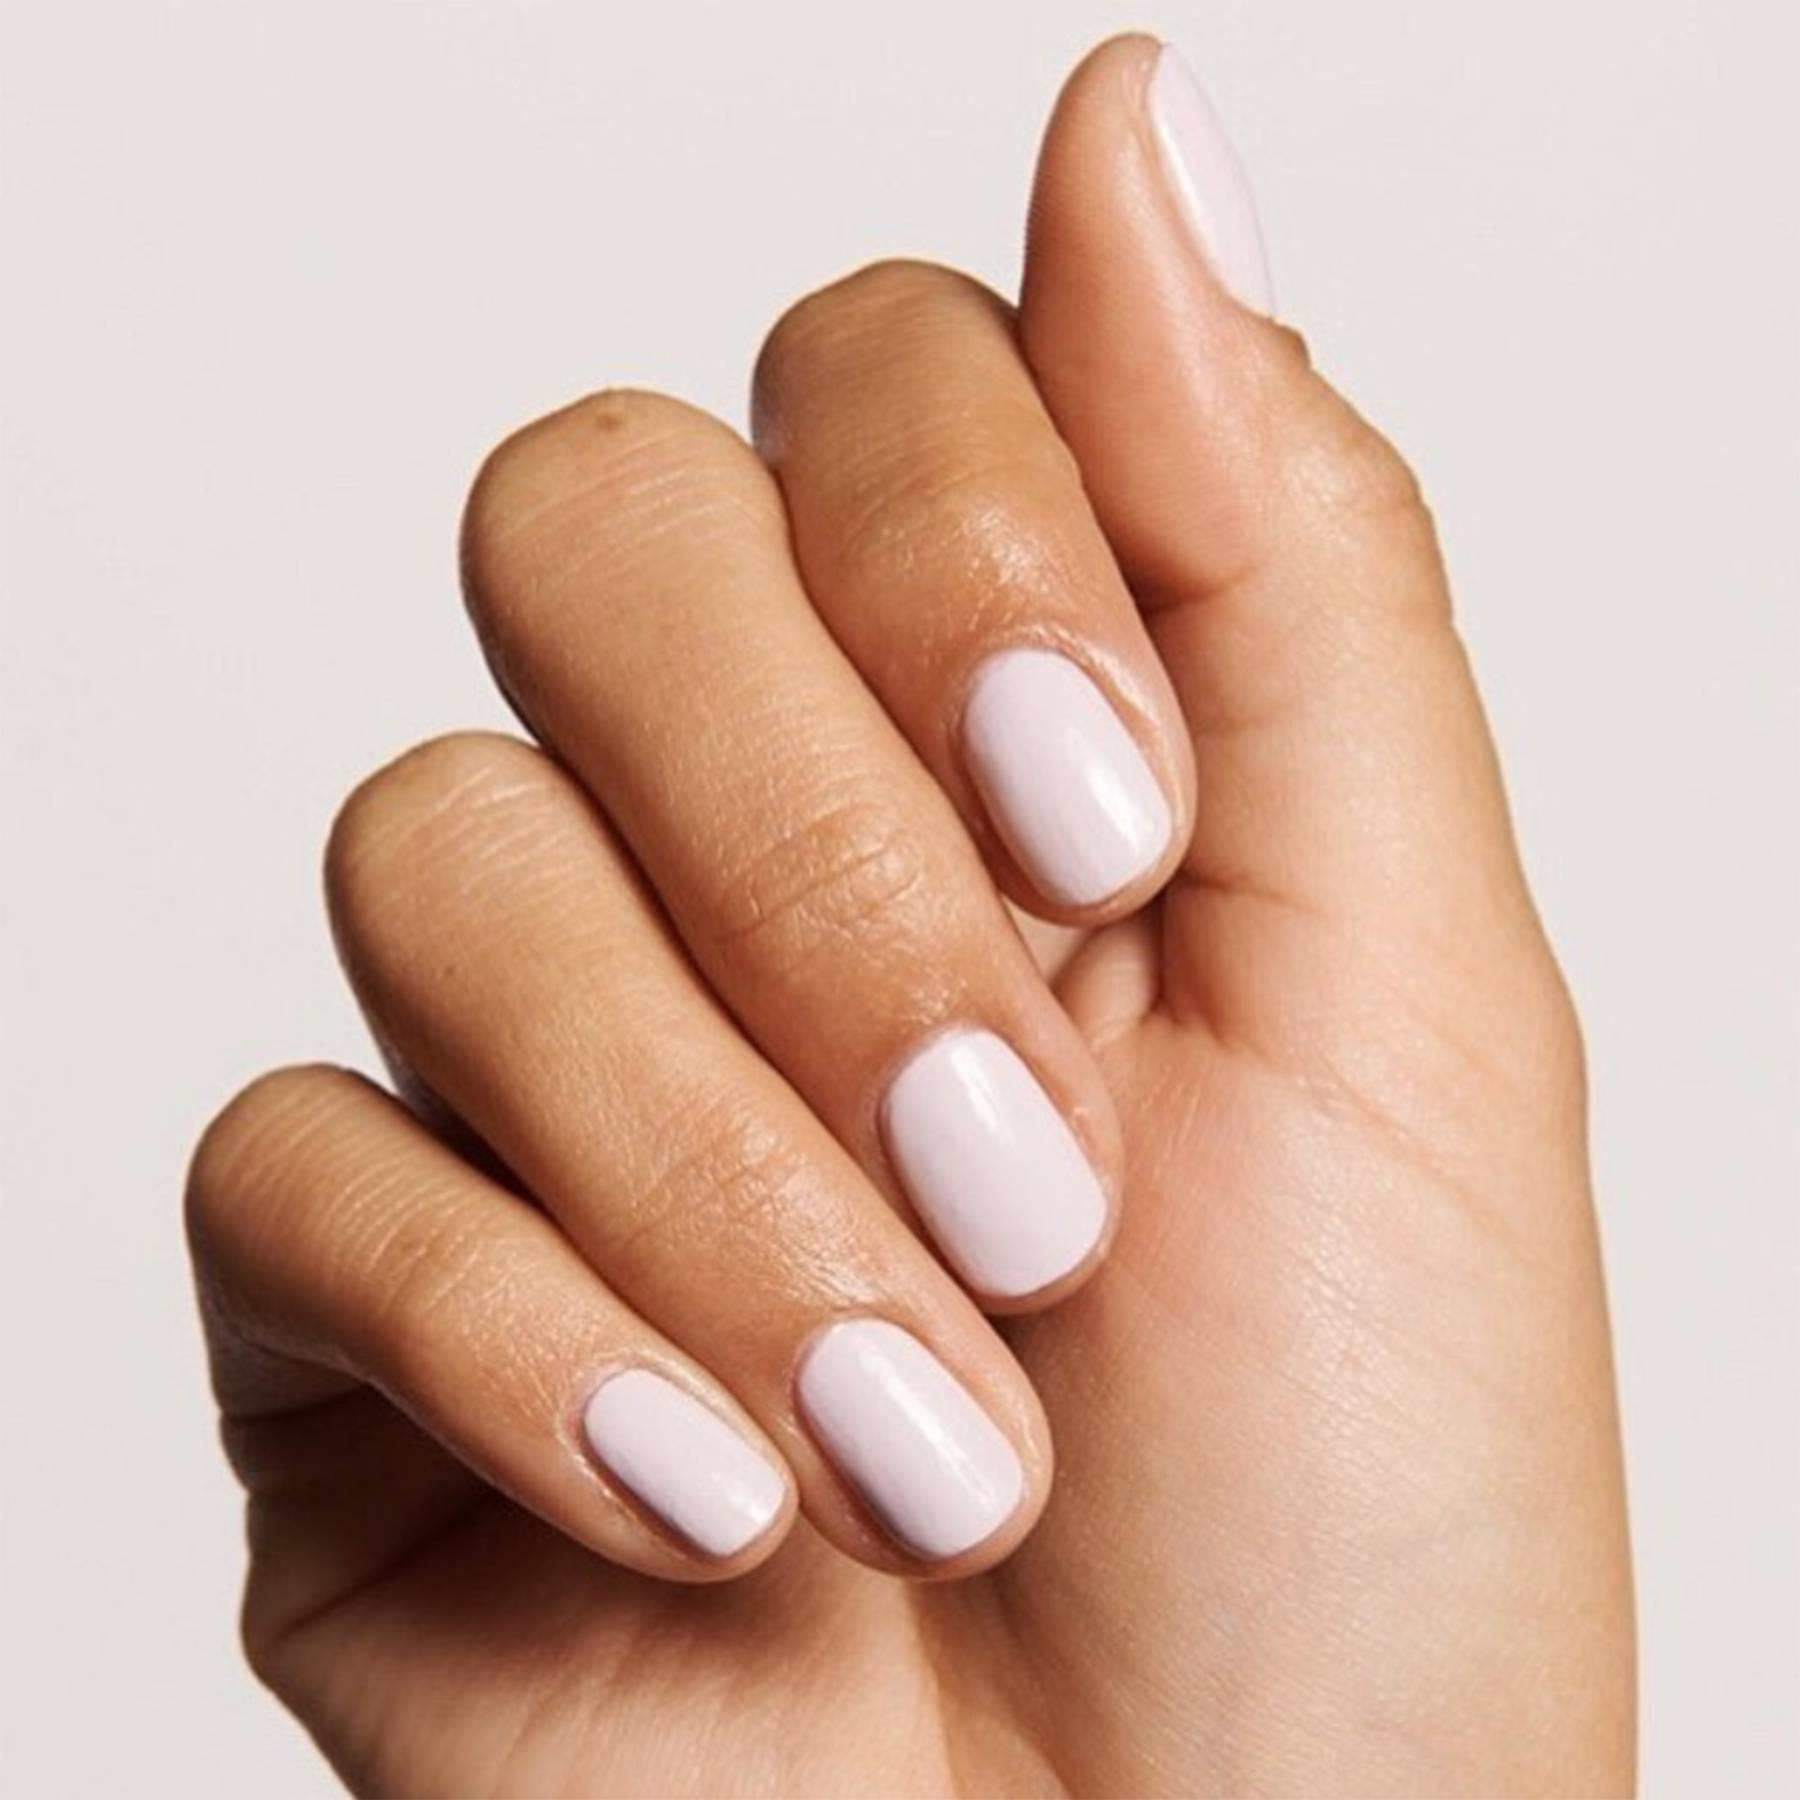nails: (855, 1010, 1114, 1305), (945, 633, 1177, 920), (783, 1301, 1025, 1569), (559, 1340, 799, 1568), (1134, 30, 1297, 340)
